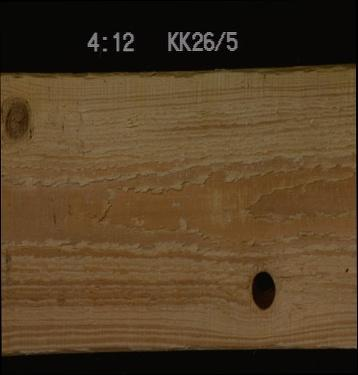sound_knot: (0, 94, 31, 144)
wave: (0, 63, 355, 87)
